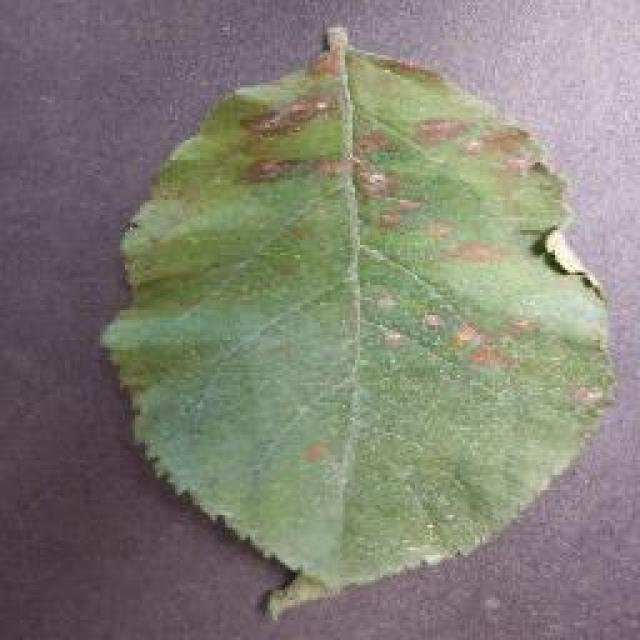apple cedar apple rust: (98, 22, 618, 620)
